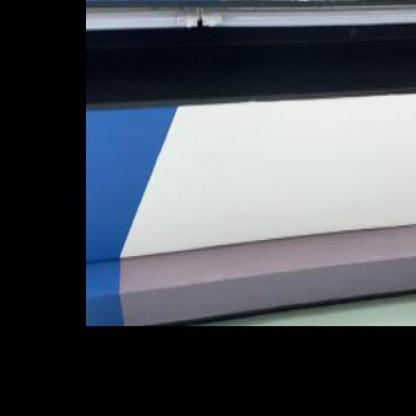light_off: (21, 0, 415, 72)
